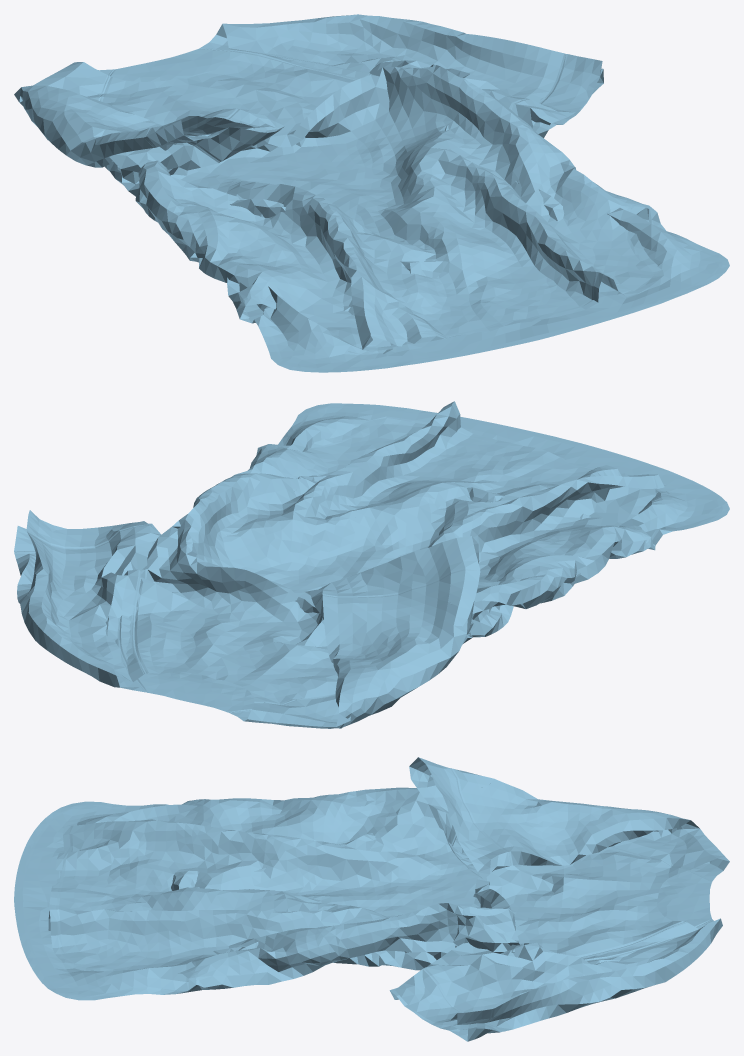
The model's file is frame_00.glb.
The picture shows the model from 3 angles, top to bottom: view 1: azimuth 30°, elevation 25°; view 2: azimuth 150°, elevation 25°; view 3: azimuth 270°, elevation 25°; orthographic projection. The views are drawn at different scales.
Parts seen in each view (by area): view 1: frame_00.obj; view 2: frame_00.obj; view 3: frame_00.obj.
Boxes of the visible parts, x1,y1,x2,y2 form: frame_00.obj: [14, 14, 729, 372]; frame_00.obj: [14, 401, 729, 728]; frame_00.obj: [14, 757, 729, 1041].
Size of the model in its own units: 1.42 by 0.2519 by 1.81.
